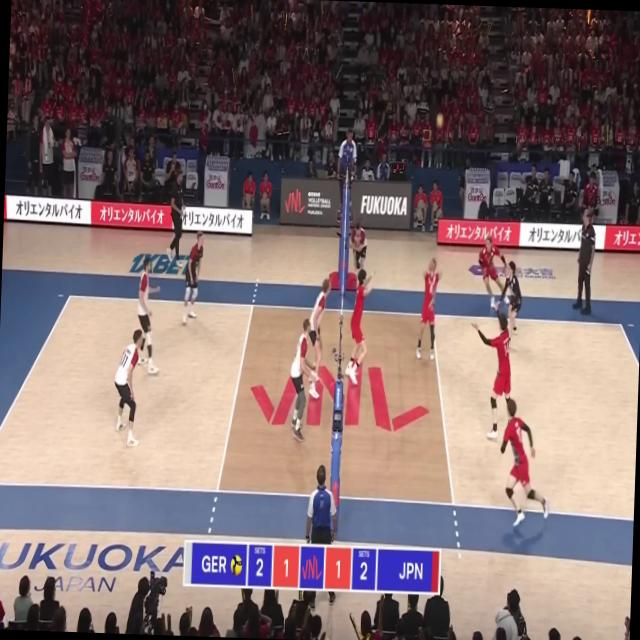referee: (303, 463, 341, 610)
team_one: (112, 327, 144, 449), (288, 318, 318, 442), (135, 258, 163, 374), (307, 277, 331, 398), (182, 230, 204, 326), (347, 221, 368, 270)
team_two: (497, 396, 552, 530), (467, 309, 516, 442), (344, 267, 376, 386), (415, 256, 441, 362), (476, 236, 508, 310), (498, 258, 524, 336)
